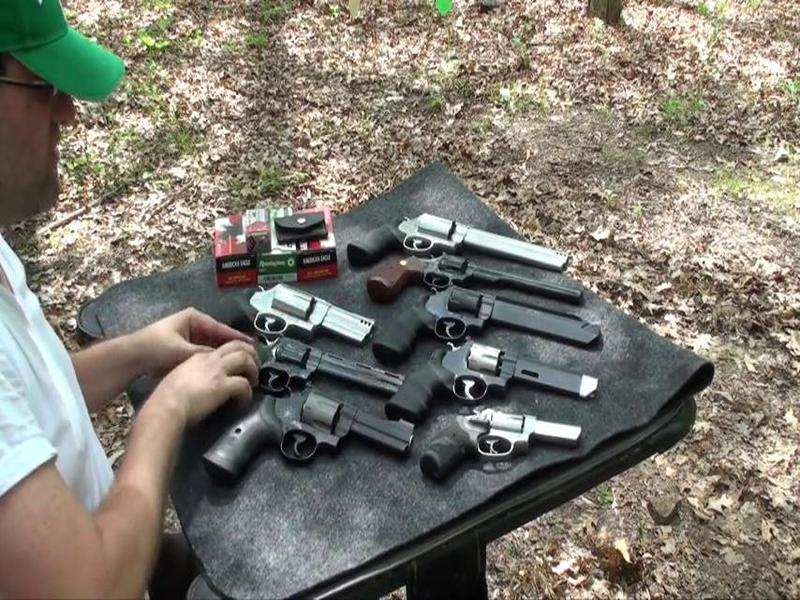Revolver: (206, 316, 392, 409)
